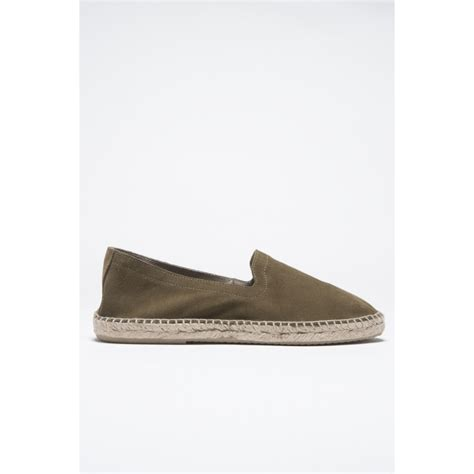gamuza: (96, 246, 380, 322)
